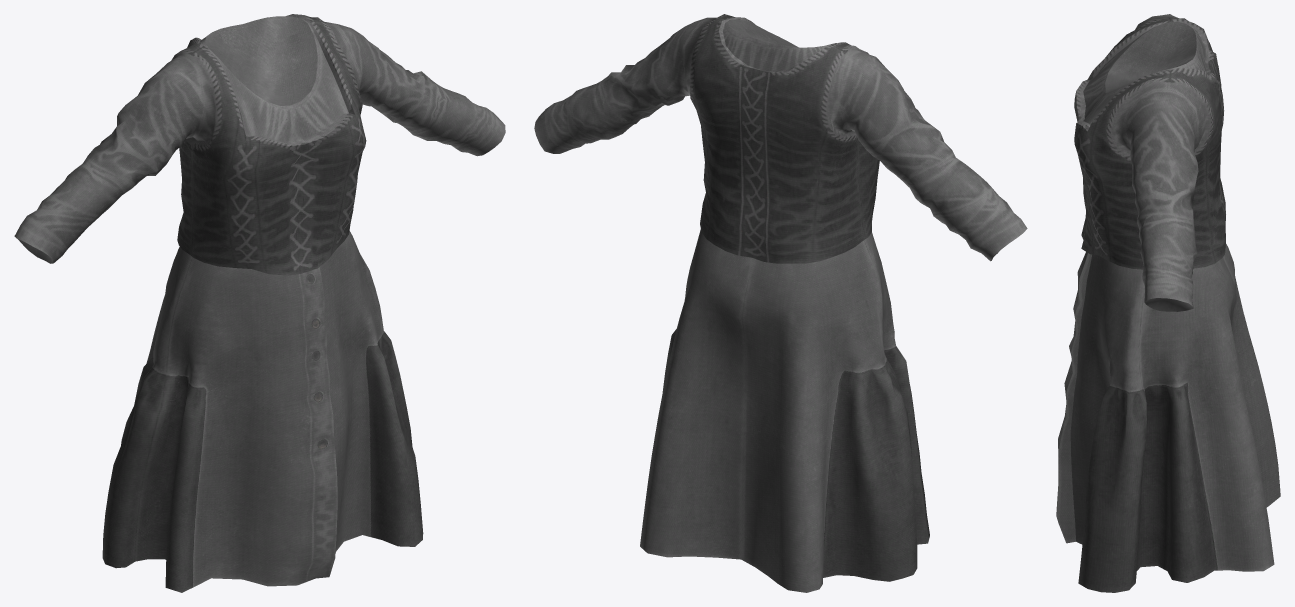
Rendered from sk_dwarf_dress_normal_g.fbx.
3 views of the same model, side by side, from view 1: azimuth 30°, elevation 25°; view 2: azimuth 150°, elevation 25°; view 3: azimuth 270°, elevation 25° (orthographic). The views are drawn at different scales.
Parts seen in each view (by area): view 1: sk_dwarf_dress_normal_g.1, sk_dwarf_dress_normal_g.0; view 2: sk_dwarf_dress_normal_g.1, sk_dwarf_dress_normal_g.0; view 3: sk_dwarf_dress_normal_g.1, sk_dwarf_dress_normal_g.0.
Boxes of the visible parts, left/top/right/bottom form: sk_dwarf_dress_normal_g.1: left=102, top=231, right=423, bottom=592; sk_dwarf_dress_normal_g.0: left=14, top=14, right=505, bottom=275; sk_dwarf_dress_normal_g.1: left=640, top=229, right=929, bottom=592; sk_dwarf_dress_normal_g.0: left=534, top=14, right=1027, bottom=263; sk_dwarf_dress_normal_g.1: left=1056, top=244, right=1280, bottom=592; sk_dwarf_dress_normal_g.0: left=1074, top=14, right=1225, bottom=311.
Size of the model in its own units: 1.21 by 0.5049 by 1.22.
Materials: 2 (2 with a texture image).
